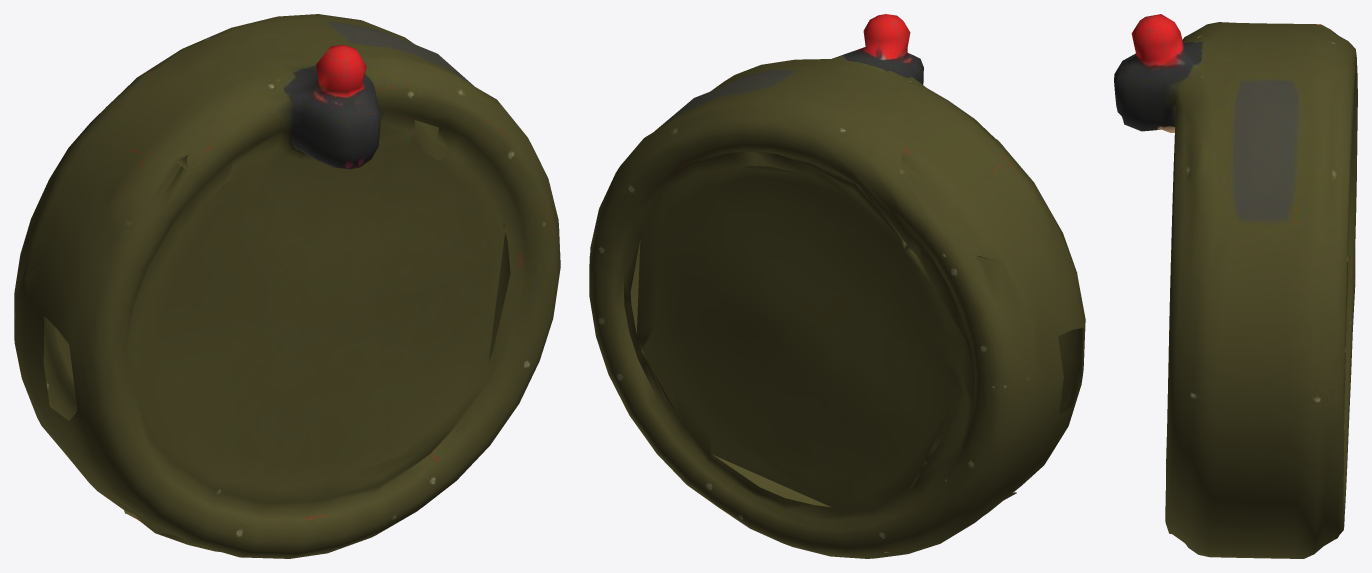
Rendered from mine.glb.
The picture shows the model from 3 angles, left to right: view 1: azimuth 30°, elevation 25°; view 2: azimuth 150°, elevation 25°; view 3: azimuth 270°, elevation 25°; orthographic projection. The views are drawn at different scales.
Visible parts, largest first — view 1: tripo_node_d890642e-6d18-44a2-8d94-6b633be7c366; view 2: tripo_node_d890642e-6d18-44a2-8d94-6b633be7c366; view 3: tripo_node_d890642e-6d18-44a2-8d94-6b633be7c366.
Boxes of the visible parts, x1,y1,x2,y2 form: tripo_node_d890642e-6d18-44a2-8d94-6b633be7c366: (14, 14, 560, 558); tripo_node_d890642e-6d18-44a2-8d94-6b633be7c366: (589, 14, 1085, 558); tripo_node_d890642e-6d18-44a2-8d94-6b633be7c366: (1114, 14, 1357, 558).
Size of the model in its own units: 0.9477 by 0.9759 by 0.4175.
1 material, 1 textured.
